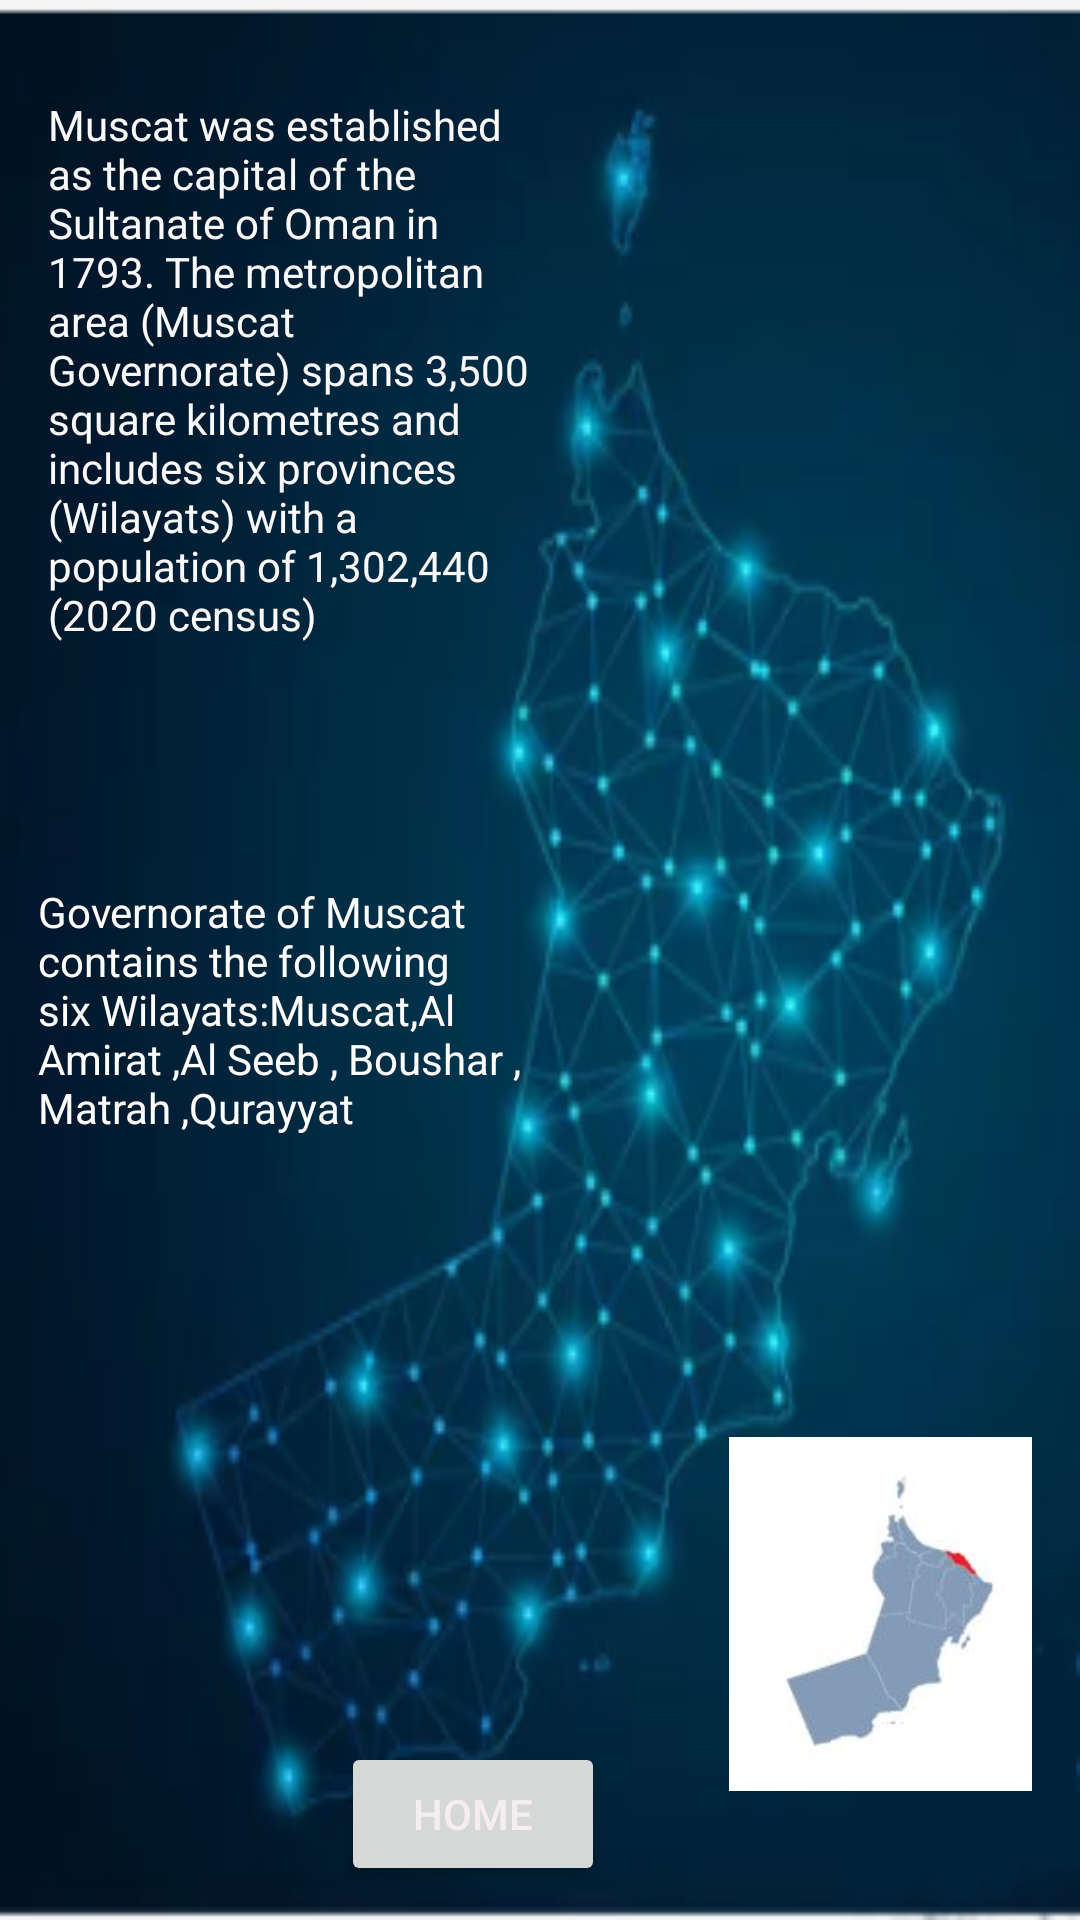

Icon click points for this 1080px×1920px phone screenshot, format (x,y):
muscat: (880,1614)
